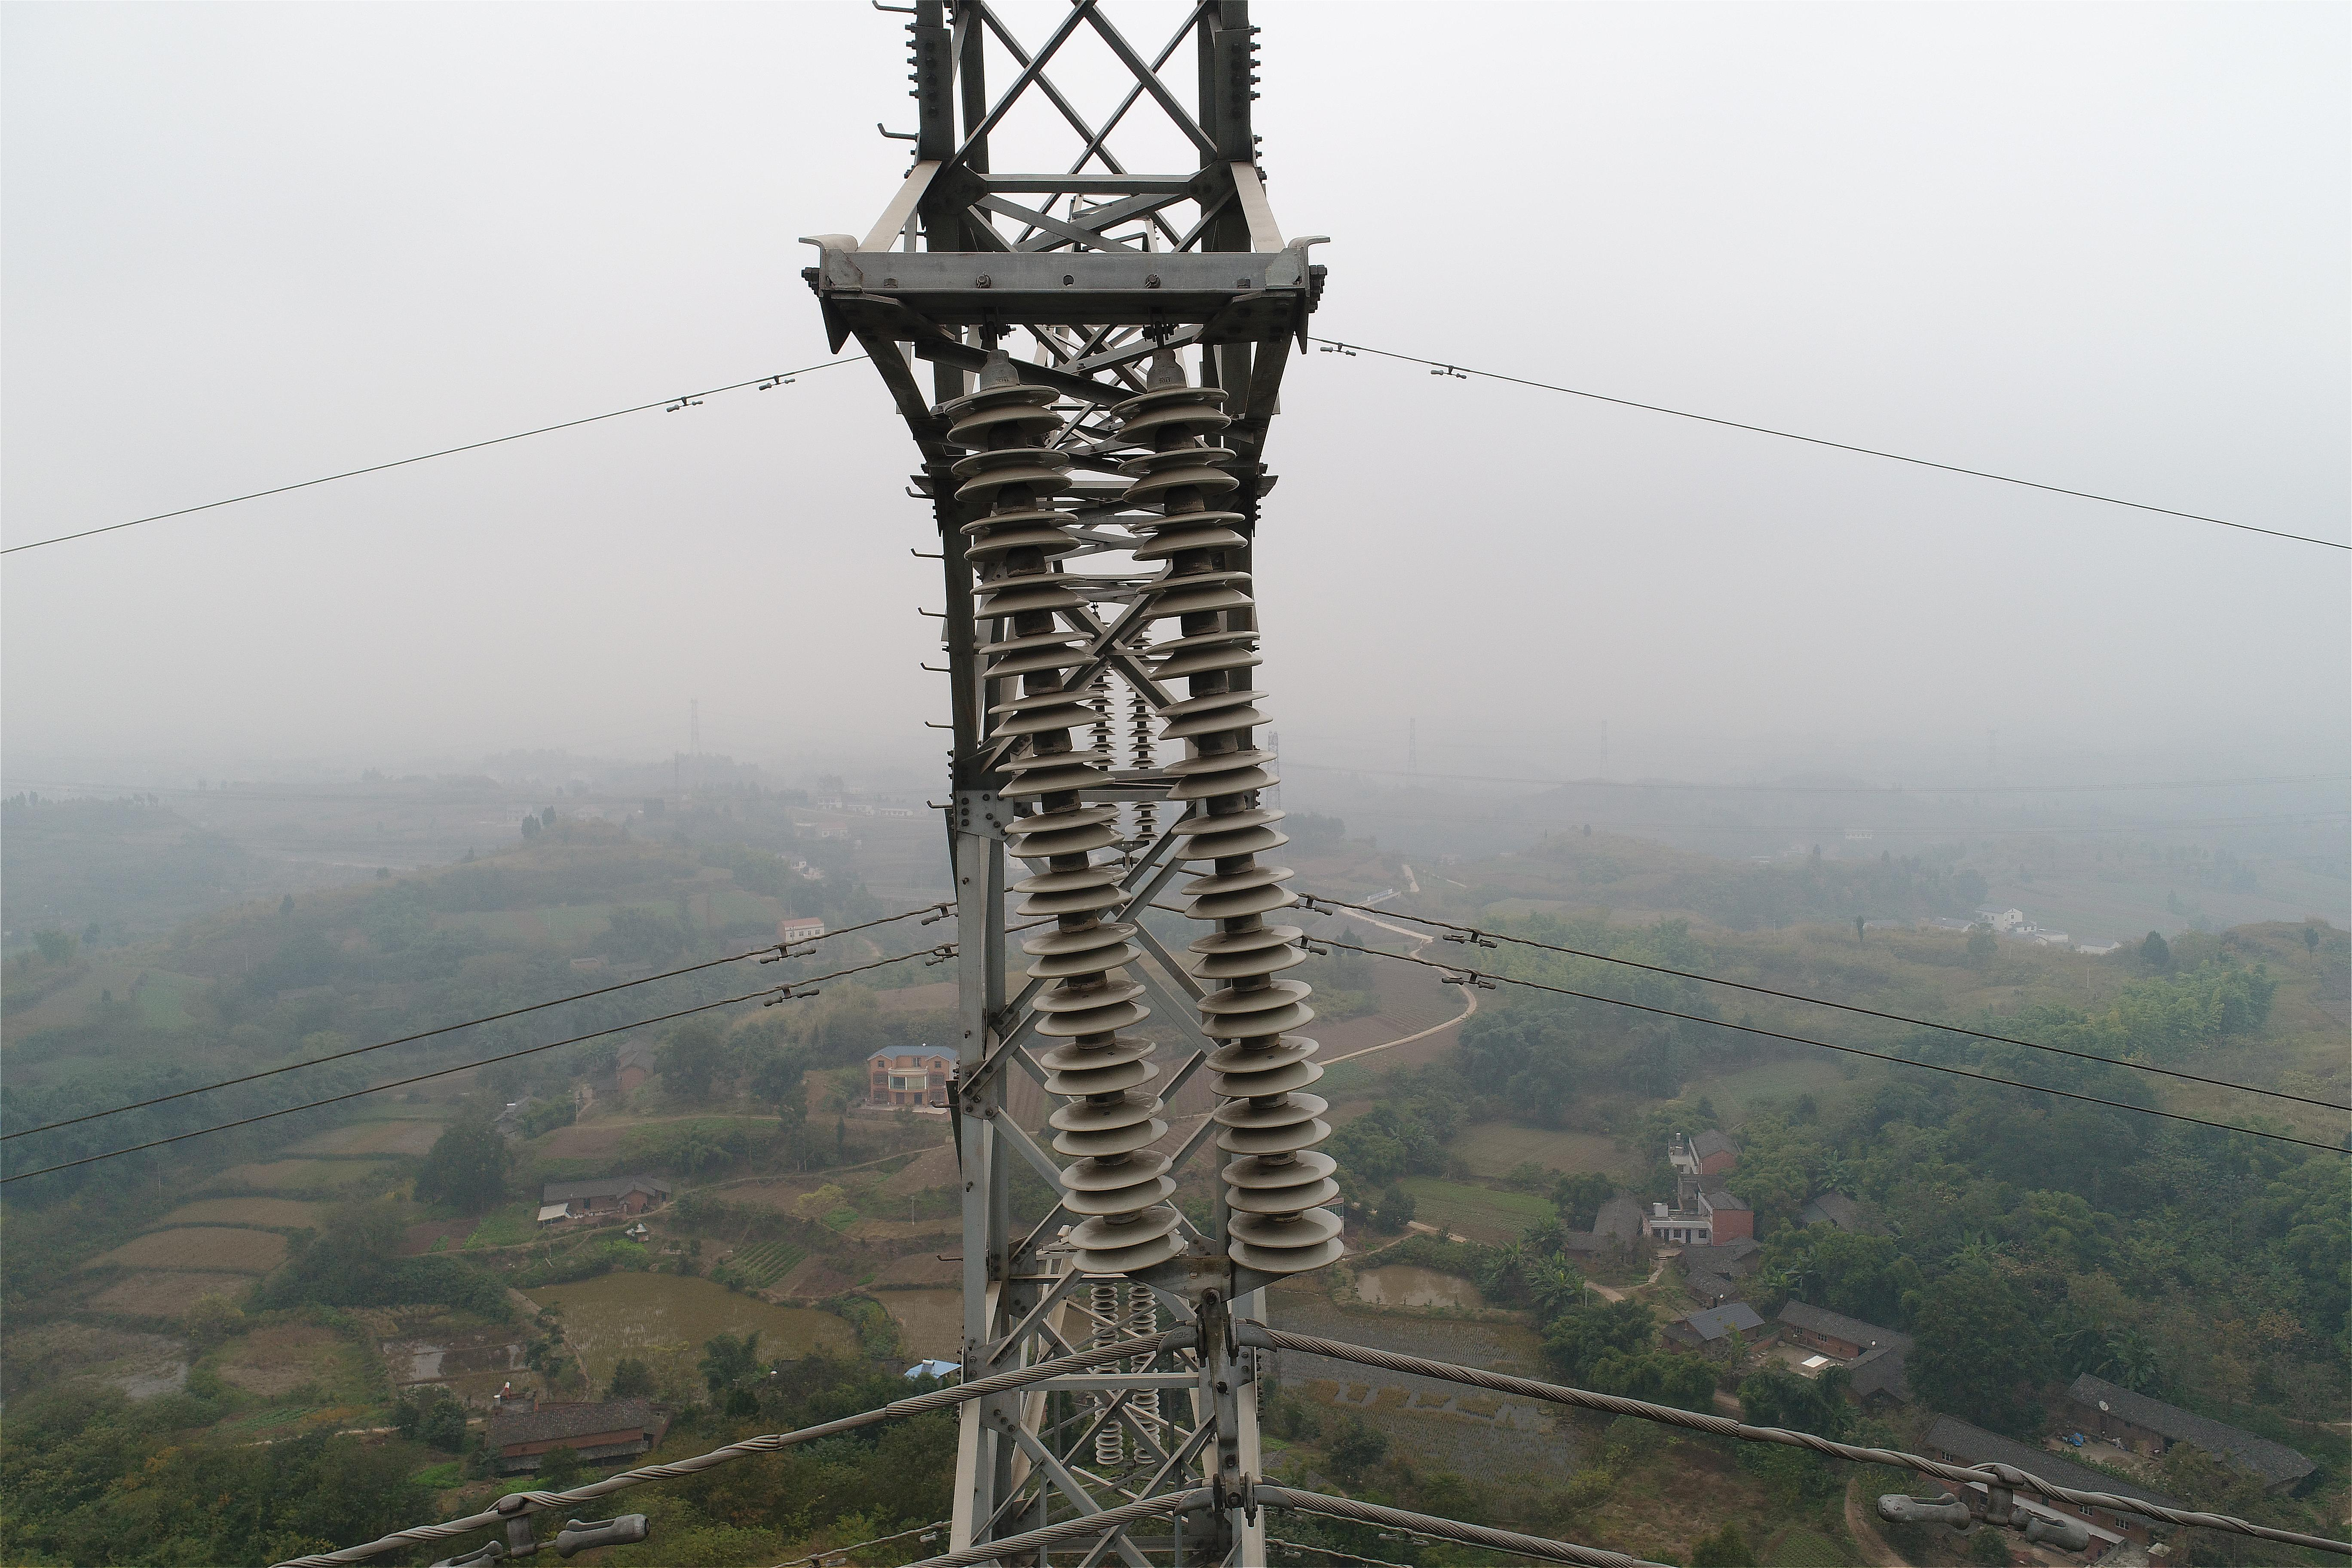insultor4: (873, 343, 1400, 1295)
